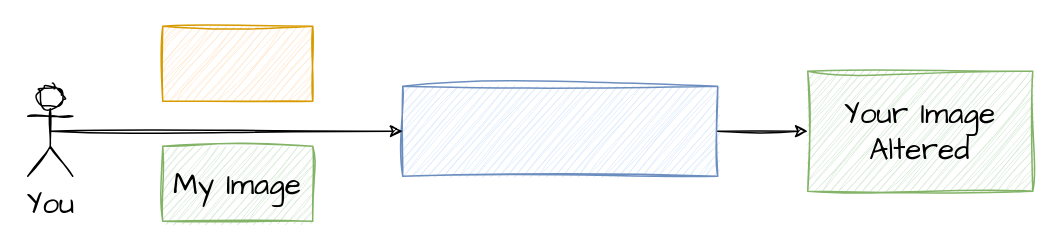
This 1059x249 diagram has some shape labels left out. Each missing label, with the box of its shape:
My Message: (161, 25, 313, 101)
steganography: (401, 85, 718, 176)
